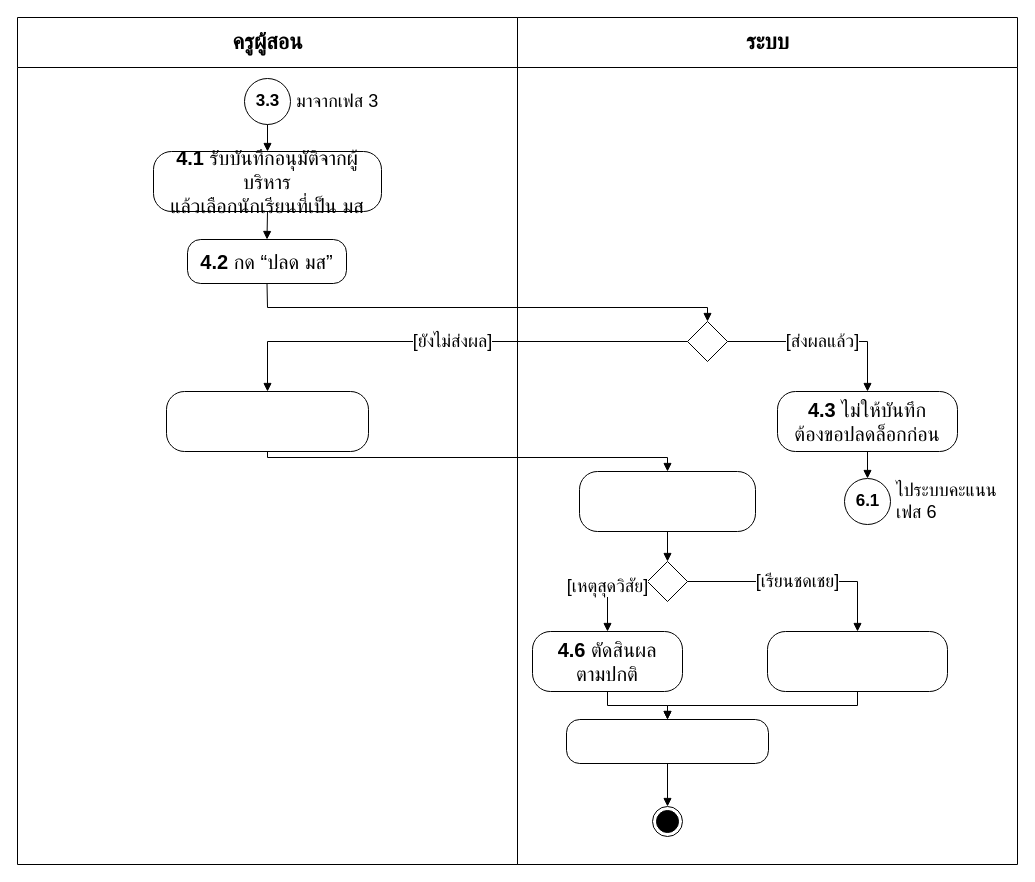
This 1035x882 diagram has some shape labels left out. Each missing label, with the box of its shape:
4.4 เลือกกรณี กรอกเลขที่ บันทึกอนุมัติและเหตุผล: (166, 390, 368, 452)
4.5 บันทึกการปลด มส (เวลาเรียนไม่เปลี่ยน): (578, 470, 756, 532)
4.7 ระดับผลการเรียน ไม่เกิน 1: (766, 630, 948, 692)
4.8 บันทึกประวัติการแก้ไข: (566, 718, 768, 764)
